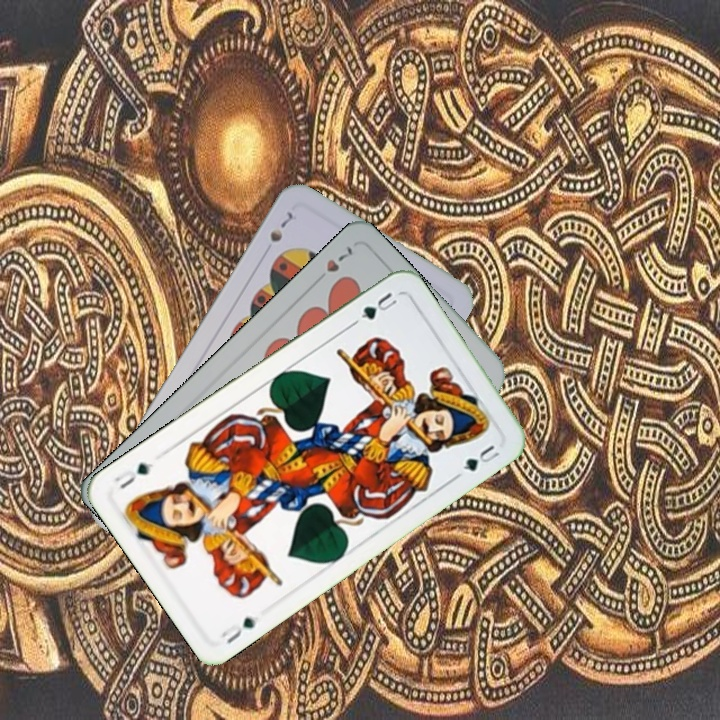GU: (356, 288, 400, 323), (217, 613, 259, 647)
H7: (310, 241, 356, 287)
S7: (266, 207, 296, 245)
